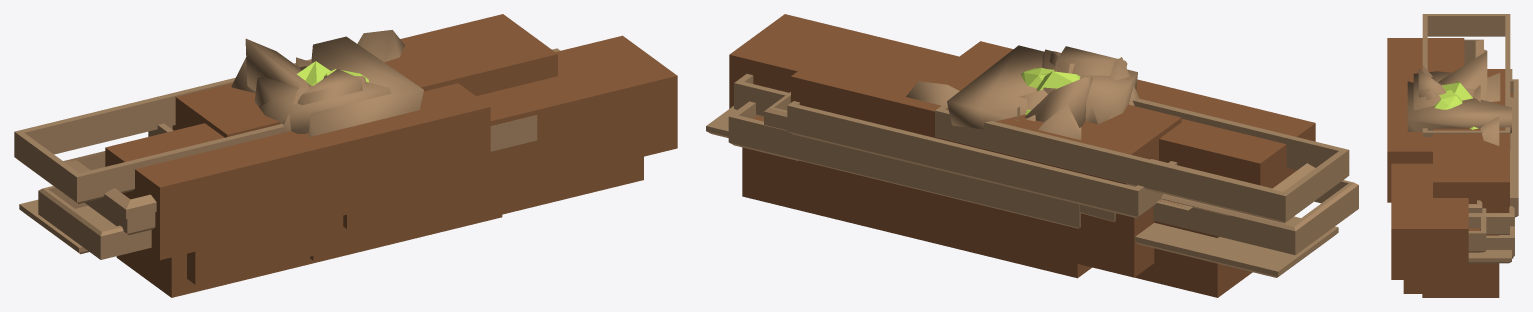
Rendered from rootnode_006_chunks.glb.
3 renders of one model, left to right at view 1: azimuth 30°, elevation 25°; view 2: azimuth 150°, elevation 25°; view 3: azimuth 270°, elevation 25°, orthographic. The views are drawn at different scales.
Parts seen in each view (by area): view 1: PlanterBushes.003_cell.025, PlanterBushes.003_cell.022, PlanterBushes.003_cell.008, PlanterBushes.003_cell.001, PlanterBushes.003_cell.018, PlanterBushes.003_cell.026, PlanterBushes.003_cell.006, PlanterBushes.003_cell.002, PlanterBushes.003_cell, PlanterBushes.003_cell.014, PlanterBushes.003_cell.010, PlanterBushes.003_cell.013 (+2 smaller); view 2: PlanterBushes.003_cell.021, PlanterBushes.003_cell.018, PlanterBushes.003_cell.008, PlanterBushes.003_cell.013, PlanterBushes.003_cell.025, PlanterBushes.003_cell.028, PlanterBushes.003_cell, PlanterBushes.003_cell.022, PlanterBushes.003_cell.006, PlanterBushes.003_cell.026, PlanterBushes.003_cell.024, PlanterBushes.003_cell.014 (+6 smaller); view 3: PlanterBushes.003_cell.022, PlanterBushes.003_cell.008, PlanterBushes.003_cell.025, PlanterBushes.003_cell.018, PlanterBushes.003_cell.026, PlanterBushes.003_cell.002, PlanterBushes.003_cell.017, PlanterBushes.003_cell.001, PlanterBushes.003_cell.021, PlanterBushes.003_cell.028, PlanterBushes.003_cell.013, PlanterBushes.003_cell.006 (+5 smaller).
Part boxes in pixels (x1,y1,x2,y2): PlanterBushes.003_cell.025: (105, 83, 490, 260); PlanterBushes.003_cell.022: (343, 35, 677, 228); PlanterBushes.003_cell.008: (172, 14, 557, 137); PlanterBushes.003_cell.001: (187, 38, 537, 284); PlanterBushes.003_cell.018: (14, 59, 422, 203); PlanterBushes.003_cell.026: (308, 36, 423, 136); PlanterBushes.003_cell.006: (116, 30, 502, 297); PlanterBushes.003_cell.002: (310, 69, 643, 260); PlanterBushes.003_cell: (38, 186, 151, 259); PlanterBushes.003_cell.014: (254, 66, 391, 133); PlanterBushes.003_cell.010: (63, 151, 156, 234); PlanterBushes.003_cell.013: (297, 48, 560, 105); PlanterBushes.003_cell.021: (787, 57, 1177, 277); PlanterBushes.003_cell.018: (935, 98, 1349, 223); PlanterBushes.003_cell.008: (791, 36, 1181, 184); PlanterBushes.003_cell.013: (728, 46, 1127, 228); PlanterBushes.003_cell.025: (953, 41, 1315, 188); PlanterBushes.003_cell.028: (742, 109, 1091, 278); PlanterBushes.003_cell: (1153, 180, 1358, 255); PlanterBushes.003_cell.022: (729, 14, 958, 108); PlanterBushes.003_cell.006: (906, 71, 1252, 297); PlanterBushes.003_cell.026: (947, 45, 1043, 129); PlanterBushes.003_cell.024: (1135, 216, 1338, 277); PlanterBushes.003_cell.014: (1042, 49, 1137, 124); PlanterBushes.003_cell.022: (1391, 163, 1468, 279); PlanterBushes.003_cell.008: (1433, 69, 1509, 212); PlanterBushes.003_cell.025: (1387, 38, 1464, 202); PlanterBushes.003_cell.018: (1422, 14, 1510, 150); PlanterBushes.003_cell.026: (1407, 81, 1511, 133); PlanterBushes.003_cell.002: (1403, 90, 1486, 293); PlanterBushes.003_cell.017: (1468, 97, 1514, 234); PlanterBushes.003_cell.001: (1438, 51, 1487, 100); PlanterBushes.003_cell.021: (1422, 65, 1518, 258); PlanterBushes.003_cell.028: (1422, 235, 1499, 297); PlanterBushes.003_cell.013: (1418, 69, 1514, 257); PlanterBushes.003_cell.006: (1442, 81, 1499, 145).
Bounding box in the file's own units: 3.91 × 1.24 × 1.09.
